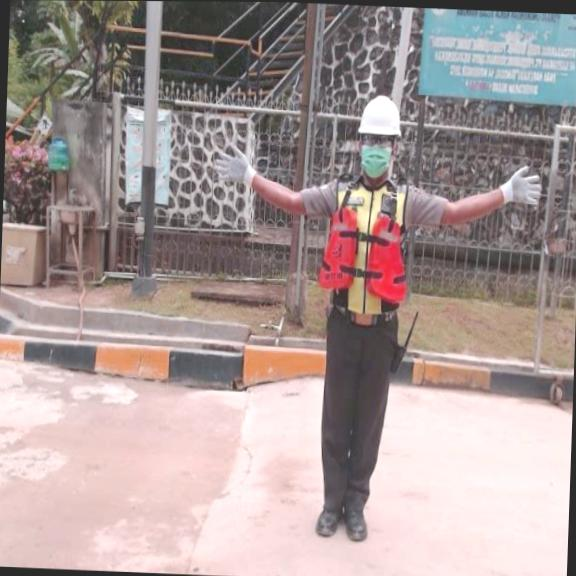safety_vest: (315, 204, 411, 303)
